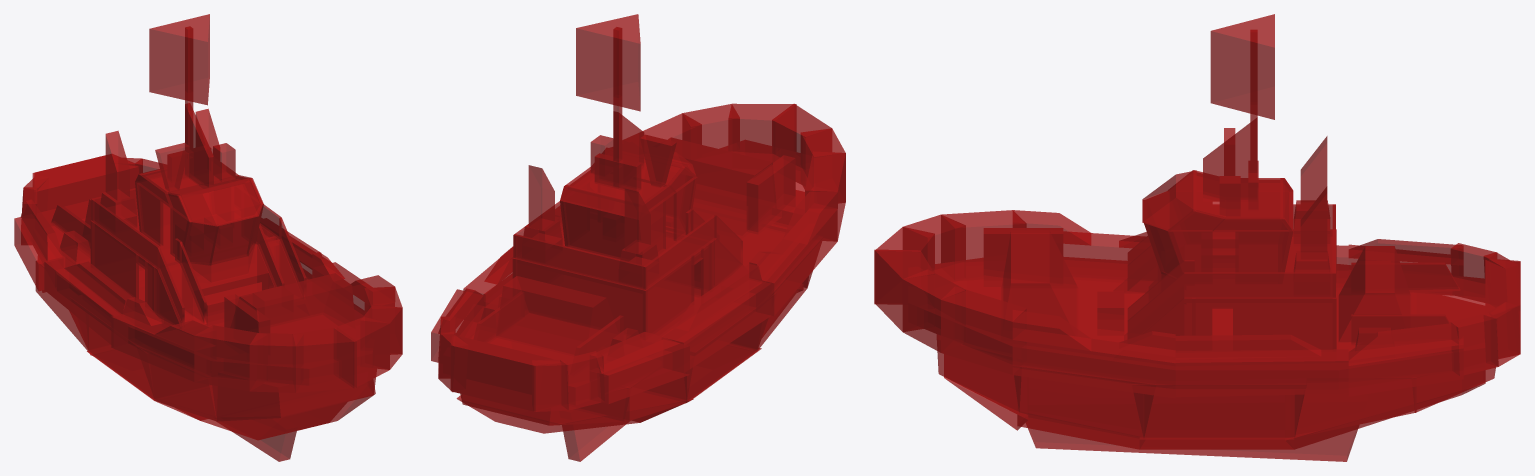
The model's file is SM_Veh_Tugboat_01_Collision.fbx.
The picture shows the model from 3 angles, left to right: view 1: azimuth 30°, elevation 25°; view 2: azimuth 150°, elevation 25°; view 3: azimuth 270°, elevation 25°; orthographic projection. The views are drawn at different scales.
Parts seen in each view (by area): view 1: SM_Veh_Tugboat_01_Collision; view 2: SM_Veh_Tugboat_01_Collision; view 3: SM_Veh_Tugboat_01_Collision.
Part boxes in pixels (bbox=[...]): SM_Veh_Tugboat_01_Collision: bbox=[14, 14, 402, 461]; SM_Veh_Tugboat_01_Collision: bbox=[431, 14, 845, 461]; SM_Veh_Tugboat_01_Collision: bbox=[874, 14, 1520, 461].
Bounding box in the file's own units: 1178 × 1881 × 2576.
